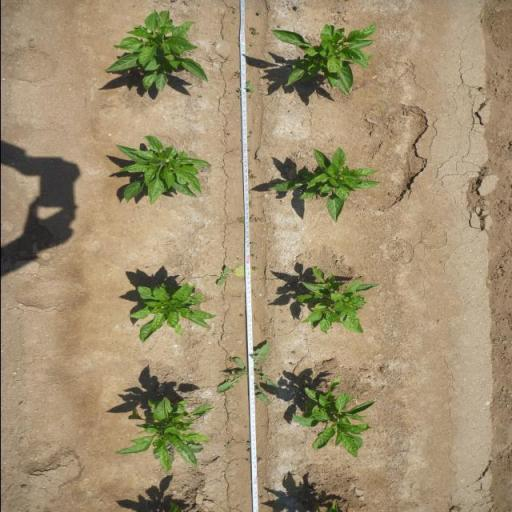plant: (265, 146, 386, 226), (99, 8, 210, 93), (266, 22, 380, 104), (108, 396, 214, 472), (287, 376, 381, 457), (110, 132, 206, 202), (292, 264, 380, 338), (127, 277, 218, 344)
weed: (211, 339, 283, 405), (236, 79, 255, 94), (216, 266, 230, 286), (249, 214, 265, 223), (246, 26, 260, 36), (248, 169, 256, 179), (232, 68, 240, 78), (236, 216, 244, 224), (248, 200, 255, 208), (244, 448, 251, 454), (247, 441, 251, 448), (249, 242, 258, 245)
